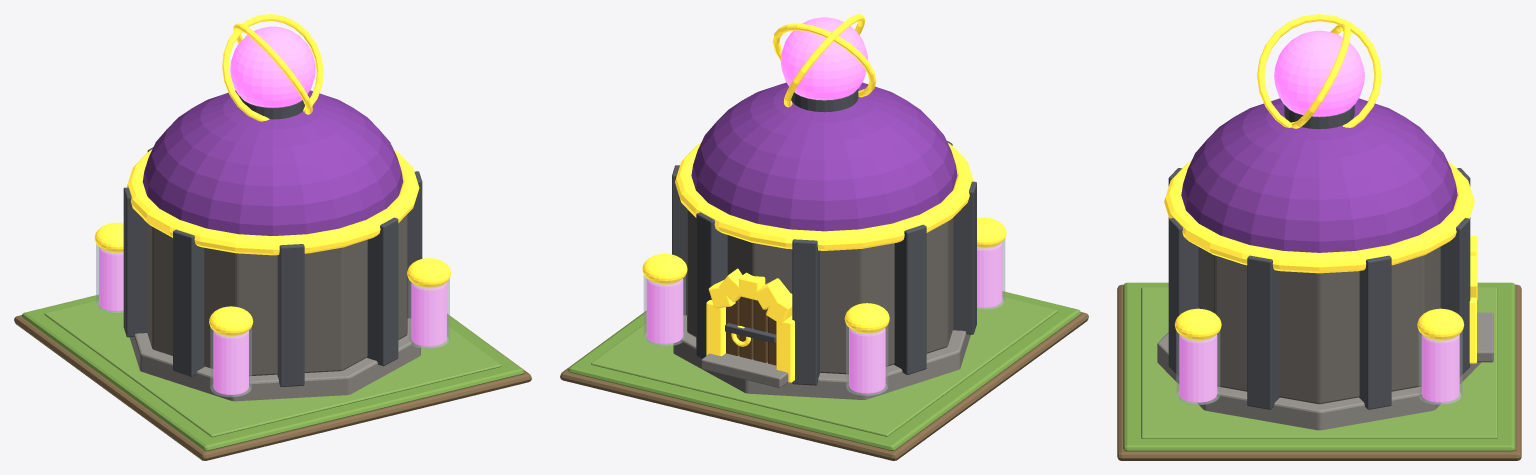
The model's file is laboratory_lv7.glb.
The picture shows the model from 3 angles, left to right: view 1: azimuth 30°, elevation 25°; view 2: azimuth 150°, elevation 25°; view 3: azimuth 270°, elevation 25°; orthographic projection. The views are drawn at different scales.
Visible parts, largest first — view 1: LabDome, LabWallDrum, Base_Inner, Base_Grass, LabDomeRim, LabPlinth, Base_Dirt, ArcaneOrb, LabPillar_4, LabPillar_6, LabPillar_5, LabPillar_3 (+13 smaller); view 2: LabDome, LabWallDrum, Base_Inner, Base_Grass, LabDomeRim, Base_Dirt, LabPlinth, ArcaneOrb, LabPillar_3, LabPillar_2, LabPillar_4, LabPillar_1 (+21 smaller); view 3: LabDome, LabWallDrum, Base_Inner, Base_Grass, LabDomeRim, Base_Dirt, LabPlinth, ArcaneOrb, LabPillar_0, LabPillar_7, LabPillar_6, LabPillar_1 (+11 smaller).
Part boxes in pixels (x1,y1,x2,y2): LabDome: [142, 90, 403, 235]; LabWallDrum: [146, 214, 407, 376]; Base_Inner: [44, 300, 501, 437]; Base_Grass: [22, 294, 523, 450]; LabDomeRim: [126, 149, 419, 255]; LabPlinth: [129, 318, 420, 401]; Base_Dirt: [14, 314, 531, 460]; ArcaneOrb: [230, 26, 315, 107]; LabPillar_4: [173, 229, 204, 376]; LabPillar_6: [367, 217, 398, 366]; LabPillar_5: [277, 244, 304, 386]; LabPillar_3: [123, 187, 147, 337]; LabDome: [691, 82, 957, 231]; LabWallDrum: [687, 209, 953, 374]; Base_Inner: [591, 297, 1057, 436]; Base_Grass: [568, 291, 1080, 450]; LabDomeRim: [675, 143, 973, 250]; Base_Dirt: [560, 311, 1088, 460]; LabPlinth: [673, 315, 970, 399]; ArcaneOrb: [780, 17, 868, 100]; LabPillar_3: [894, 224, 926, 374]; LabPillar_2: [792, 239, 819, 385]; LabPillar_4: [953, 181, 976, 334]; LabPillar_1: [696, 212, 727, 358]; LabDome: [1181, 98, 1457, 252]; LabWallDrum: [1198, 247, 1440, 404]; Base_Inner: [1141, 287, 1497, 438]; Base_Grass: [1123, 282, 1515, 451]; LabDomeRim: [1164, 161, 1474, 273]; Base_Dirt: [1117, 284, 1521, 460]; LabPlinth: [1157, 332, 1481, 430]; ArcaneOrb: [1274, 30, 1364, 116]; LabPillar_0: [1359, 255, 1391, 409]; LabPillar_7: [1247, 255, 1279, 409]; LabPillar_6: [1168, 218, 1198, 376]; LabPillar_1: [1440, 218, 1470, 376].
Bounding box in the file's own units: 2.76 × 2.64 × 2.76.
